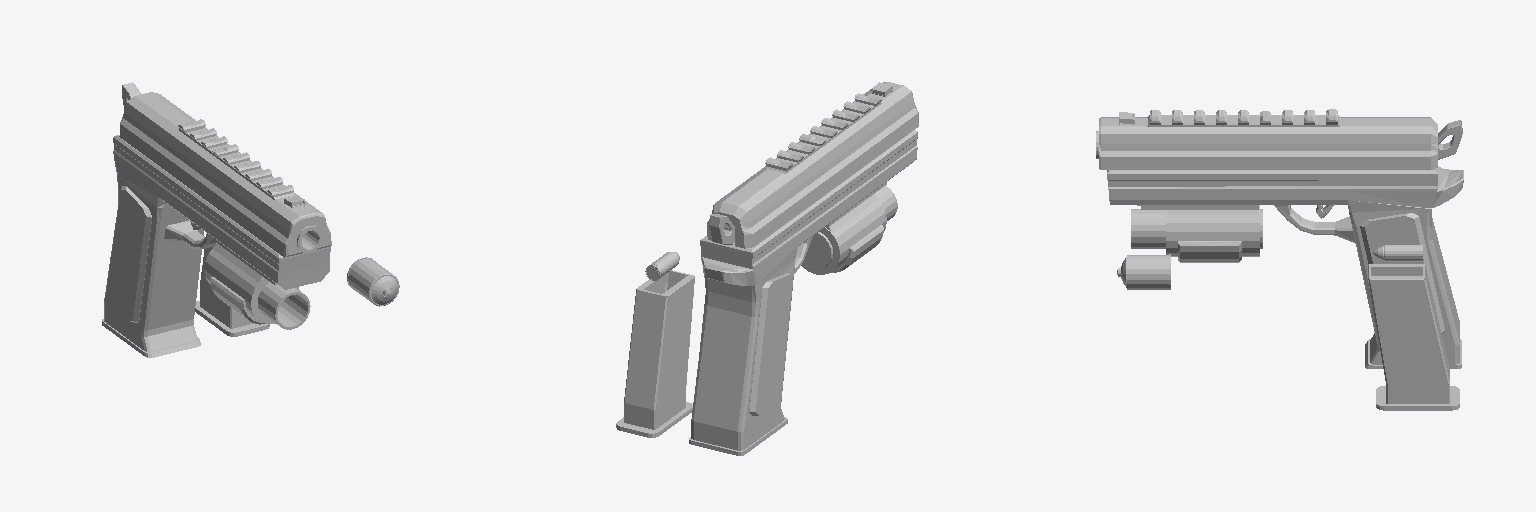
The model's file is Noob gun.obj.
3 renders of one model, left to right at view 1: azimuth 30°, elevation 25°; view 2: azimuth 150°, elevation 25°; view 3: azimuth 270°, elevation 25°, orthographic.
Parts seen in each view (by area): view 1: pCube1_pCube1, pCube2_pCube2, pCylinder2_pCylinder2, pCube11_pCube11, pCube5_pCube5, pCube9_pCube9, pCylinder4_pCylinder4, pCube3_pCube3, pCube7_pCube7, pCylinder1_pCylinder1; view 2: pCube1_pCube1, pCube2_pCube2, pCube9_pCube9, pCube11_pCube11, pCylinder2_pCylinder2, pCube5_pCube5, pCube4_pCube4, pCube7_pCube7, pCylinder3_pCylinder3; view 3: pCube1_pCube1, pCube2_pCube2, pCube9_pCube9, pCylinder2_pCylinder2, pCube5_pCube5, pCube11_pCube11, pCylinder4_pCylinder4, pCube3_pCube3, pCube7_pCube7, pCylinder3_pCylinder3, pCube4_pCube4.
Boxes of the visible parts, <box> form: pCube1_pCube1: <box>102,135,330,357</box>; pCube2_pCube2: <box>119,92,331,257</box>; pCylinder2_pCylinder2: <box>204,247,310,329</box>; pCube11_pCube11: <box>108,186,151,322</box>; pCube5_pCube5: <box>178,119,293,199</box>; pCube9_pCube9: <box>195,234,269,336</box>; pCylinder4_pCylinder4: <box>347,257,399,306</box>; pCube3_pCube3: <box>164,220,216,248</box>; pCube7_pCube7: <box>213,241,277,285</box>; pCylinder1_pCylinder1: <box>297,226,322,252</box>; pCube1_pCube1: <box>689,130,917,455</box>; pCube2_pCube2: <box>707,82,918,248</box>; pCube9_pCube9: <box>616,270,694,437</box>; pCube11_pCube11: <box>700,273,792,415</box>; pCylinder2_pCylinder2: <box>801,186,897,274</box>; pCube5_pCube5: <box>765,93,881,173</box>; pCube4_pCube4: <box>709,214,734,244</box>; pCube7_pCube7: <box>826,182,886,232</box>; pCylinder3_pCylinder3: <box>645,252,679,280</box>; pCube1_pCube1: <box>1107,166,1463,368</box>; pCube2_pCube2: <box>1099,117,1437,169</box>; pCube9_pCube9: <box>1368,264,1459,410</box>; pCylinder2_pCylinder2: <box>1131,205,1262,262</box>; pCube5_pCube5: <box>1147,109,1340,126</box>; pCube11_pCube11: <box>1360,213,1444,333</box>; pCylinder4_pCylinder4: <box>1117,254,1170,289</box>; pCube3_pCube3: <box>1274,205,1355,243</box>; pCube7_pCube7: <box>1141,205,1258,214</box>; pCylinder3_pCylinder3: <box>1373,244,1422,260</box>; pCube4_pCube4: <box>1438,120,1462,159</box>.
Size of the model in its own units: 2.59 by 4.49 by 6.1.